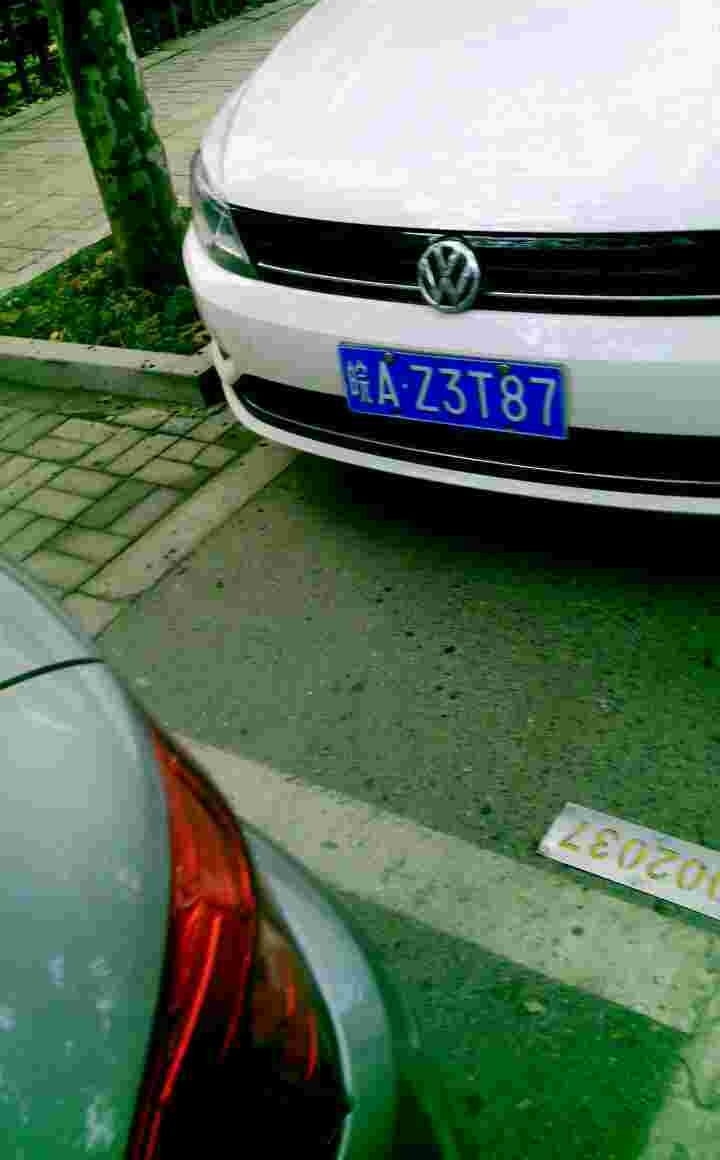license_plate: (343, 337, 560, 440)
